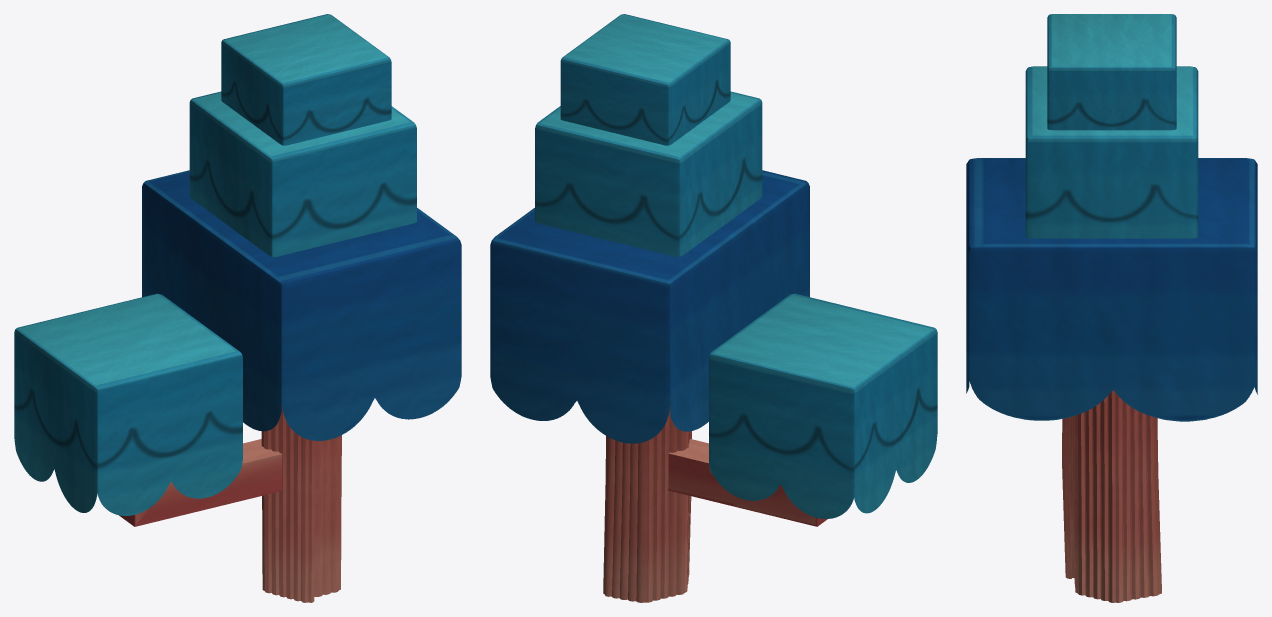
File: prp_cube_tree_c.fbx
The picture shows the model from 3 angles, left to right: view 1: azimuth 30°, elevation 25°; view 2: azimuth 150°, elevation 25°; view 3: azimuth 270°, elevation 25°; orthographic projection. The views are drawn at different scales.
Visible parts, largest first — view 1: Bush008; view 2: Bush008; view 3: Bush008.
Boxes of the visible parts, <box> form: Bush008: <box>14,14,461,602</box>; Bush008: <box>490,14,937,602</box>; Bush008: <box>966,14,1257,602</box>.
Bounding box in the file's own units: 143 × 216 × 104.
